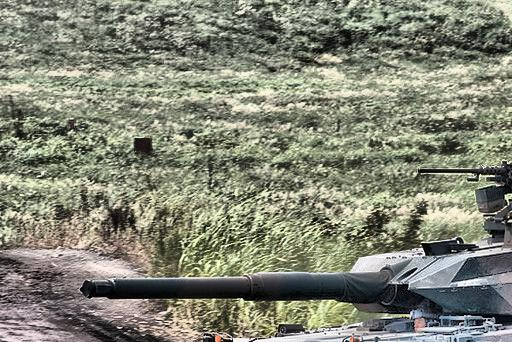tanks: (83, 163, 512, 342)
